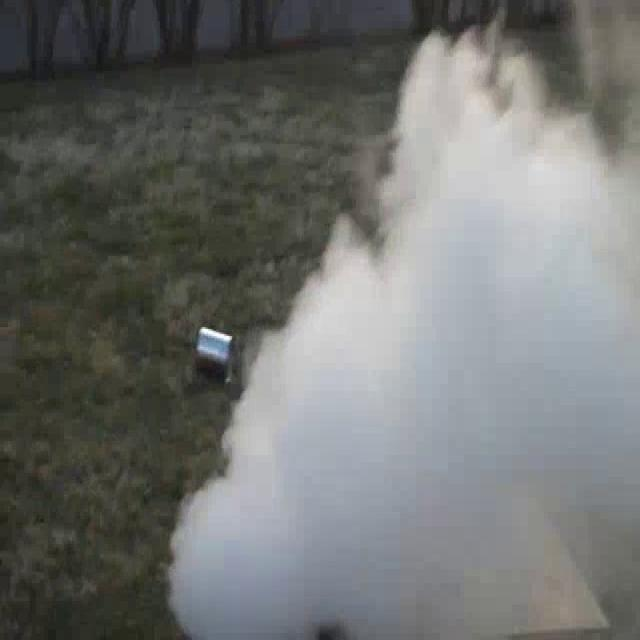Smoke: (387, 1, 640, 640), (169, 474, 606, 640), (222, 211, 436, 474)
